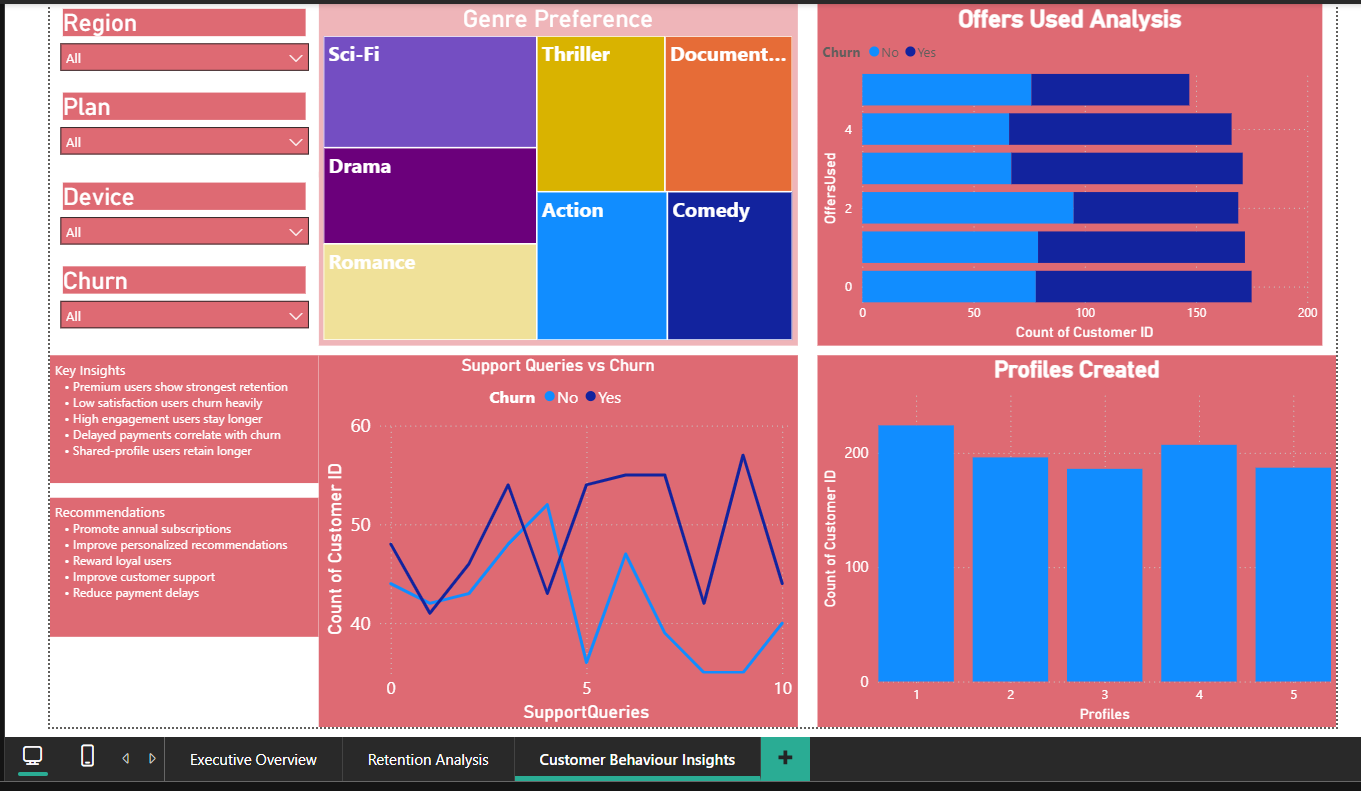

The dashboard page shown, as its layout file describes it:
{"tool":"powerbi","page":{"name":"Customer Behaviour Insights","canvas":[1280,720],"ordinal":2},"visuals":[{"type":"treemap","title":"Genre Preference","fields":{"Details":["Sheet1.Genre"],"Values":["CountNonNull(Sheet1.Customer ID)"]},"box":[267.5,0,476.4,339.6],"z":0},{"type":"lineChart","title":"Support Queries vs Churn","fields":{"Category":["Sheet1.SupportQueries"],"Y":["CountNonNull(Sheet1.Customer ID)"],"Series":["Sheet1.Churn"]},"box":[267.5,349.6,476.4,370.7],"z":1000},{"type":"barChart","title":"Offers Used Analysis","fields":{"Y":["CountNonNull(Sheet1.Customer ID)"],"Category":["Sheet1.OffersUsed"],"Series":["Sheet1.Churn"]},"box":[763.8,0,502.6,339.6],"z":2000},{"type":"columnChart","title":"Profiles Created","fields":{"Category":["Sheet1.Profiles"],"Y":["CountNonNull(Sheet1.Customer ID)"]},"box":[763.8,349.6,516.2,370.7],"z":3000},{"type":"slicer","fields":{"Values":["Sheet1.Region"]},"box":[0,0,267.5,83.3],"z":4000},{"type":"slicer","fields":{"Values":["Sheet1.Plan"]},"box":[0,83.3,267.5,83.3],"z":5000},{"type":"slicer","fields":{"Values":["Sheet1.Device"]},"box":[0,172.9,267.5,83.3],"z":6000},{"type":"slicer","fields":{"Values":["Sheet1.Churn"]},"box":[0,256.3,267.5,83.3],"z":7000},{"type":"textbox","box":[0,349.6,267.5,126.9],"z":8000},{"type":"textbox","box":[0,491.4,267.5,138.1],"z":9000}]}

Visuals, with their boxes on the page's 1280x720 design canvas (x1, y1, x2, y2). These are canvas units, not pixel positions in the 1361x791 screenshot, which may show the page scaled, cropped or inside an application window:
"Genre Preference" treemap: (268,0,744,340)
"Support Queries vs Churn" lineChart: (268,350,744,720)
"Offers Used Analysis" barChart: (764,0,1266,340)
"Profiles Created" columnChart: (764,350,1280,720)
slicer - Sheet1.Region: (0,0,268,83)
slicer - Sheet1.Plan: (0,83,268,167)
slicer - Sheet1.Device: (0,173,268,256)
slicer - Sheet1.Churn: (0,256,268,340)
textbox: (0,350,268,476)
textbox: (0,491,268,630)
